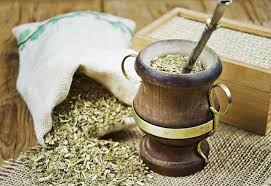guampa: (131, 1, 242, 174)
